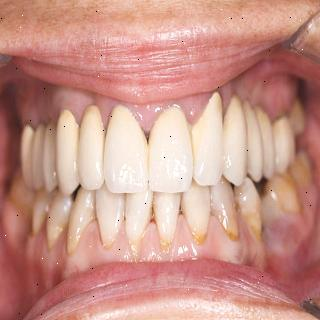LL1BC_mdecay: (234, 179, 264, 239)
LL1M_mdecay: (264, 176, 302, 214)
LLCI_healthy: (153, 192, 181, 244)
LLC_mdecay: (211, 182, 240, 240)
LLLI_mdecay: (182, 186, 212, 243)
LR1BC_healthy: (47, 193, 72, 246)
LR2BC_healthy: (31, 192, 49, 233)
LRCI_healthy: (125, 190, 153, 248)
LRC_healthy: (66, 191, 93, 255)
LRLI_healthy: (94, 190, 125, 247)
UL1BC_healthy: (244, 100, 262, 181)
UL2BC_healthy: (256, 105, 275, 179)
ULCI_healthy: (150, 108, 192, 193)
ULC_healthy: (224, 95, 247, 185)
ULLI_healthy: (191, 92, 224, 186)
UR1BC_healthy: (44, 124, 58, 189)
UR1M_healthy: (20, 125, 33, 184)
UR2BC_healthy: (32, 126, 45, 191)
URCI_healthy: (104, 105, 151, 192)
URC_healthy: (56, 110, 79, 194)
URLI_healthy: (78, 104, 105, 190)
